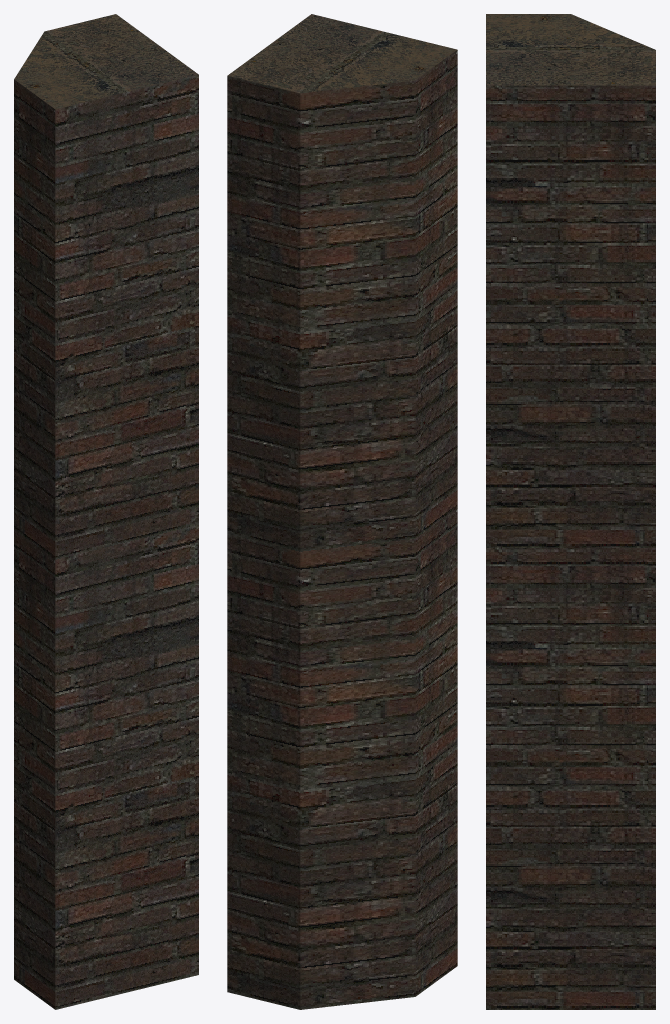
The model's file is pillar_hs_6.glb.
3 views of the same model, side by side, from view 1: azimuth 30°, elevation 25°; view 2: azimuth 150°, elevation 25°; view 3: azimuth 270°, elevation 25° (orthographic). The views are drawn at different scales.
Visible parts, largest first — view 1: pillar_hs_6; view 2: pillar_hs_6; view 3: pillar_hs_6.
Part boxes in pixels (bbox=[...]): pillar_hs_6: bbox=[14, 14, 198, 1009]; pillar_hs_6: bbox=[227, 14, 457, 1009]; pillar_hs_6: bbox=[486, 14, 655, 1009].
Bounding box in the file's own units: 1 × 6 × 1.
2 materials, 2 textured.
